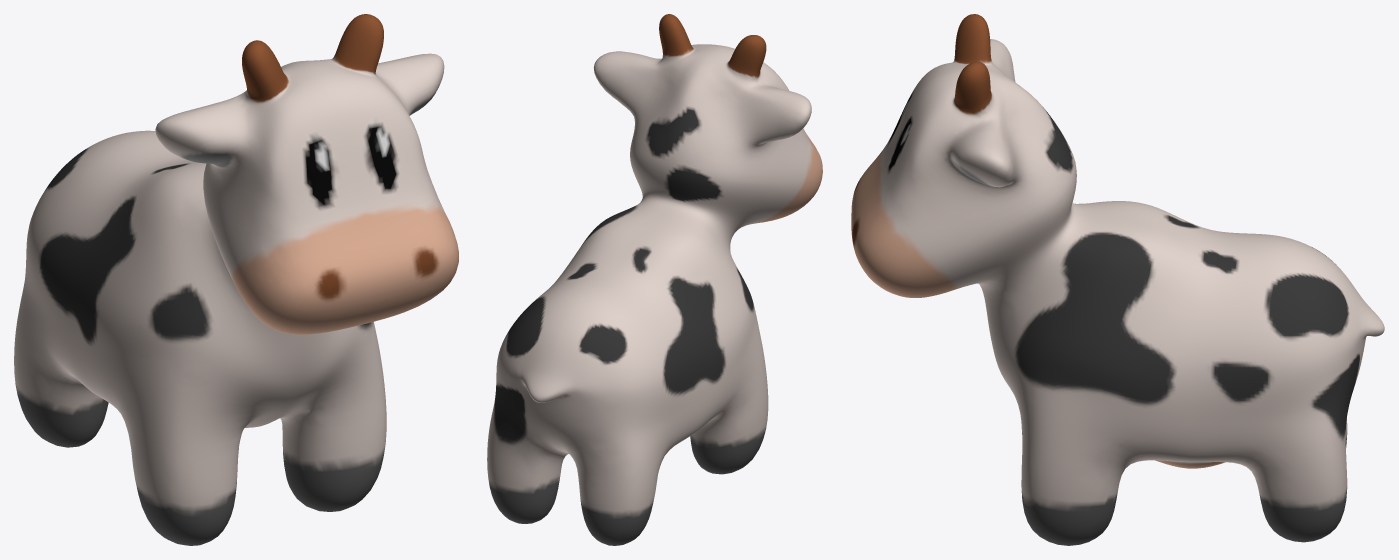
File: spot_holstein_cow.glb
The picture shows the model from 3 angles, left to right: view 1: azimuth 30°, elevation 25°; view 2: azimuth 150°, elevation 25°; view 3: azimuth 270°, elevation 25°; orthographic projection. The views are drawn at different scales.
Visible parts, largest first — view 1: SpotCow; view 2: SpotCow; view 3: SpotCow.
Boxes of the visible parts, box(x1,y1,x2,y2) form: SpotCow: box(14, 14, 458, 545); SpotCow: box(487, 14, 822, 545); SpotCow: box(851, 14, 1384, 545).
Bounding box in the file's own units: 0.9314 × 1.68 × 1.72.
